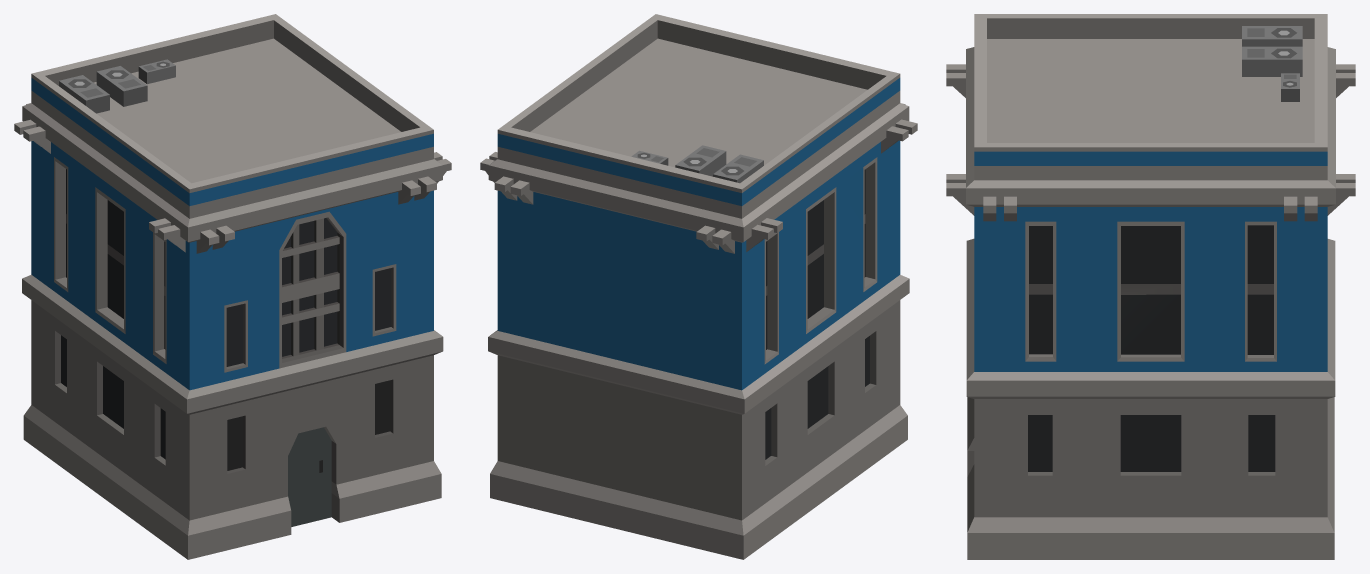
Rendered from SA_Bld_WarehouseOld_02.gltf.
3 views of the same model, side by side, from view 1: azimuth 30°, elevation 25°; view 2: azimuth 150°, elevation 25°; view 3: azimuth 270°, elevation 25° (orthographic). The views are drawn at different scales.
Visible parts, largest first — view 1: SA_Bld_WarehouseOld_02; view 2: SA_Bld_WarehouseOld_02; view 3: SA_Bld_WarehouseOld_02.
Boxes of the visible parts, box(x1,y1,x2,y2) form: SA_Bld_WarehouseOld_02: box(14, 14, 451, 559); SA_Bld_WarehouseOld_02: box(480, 14, 917, 559); SA_Bld_WarehouseOld_02: box(946, 14, 1355, 559).
Bounding box in the file's own units: 14.67 × 17.89 × 16.18.
1 material, 1 textured.
